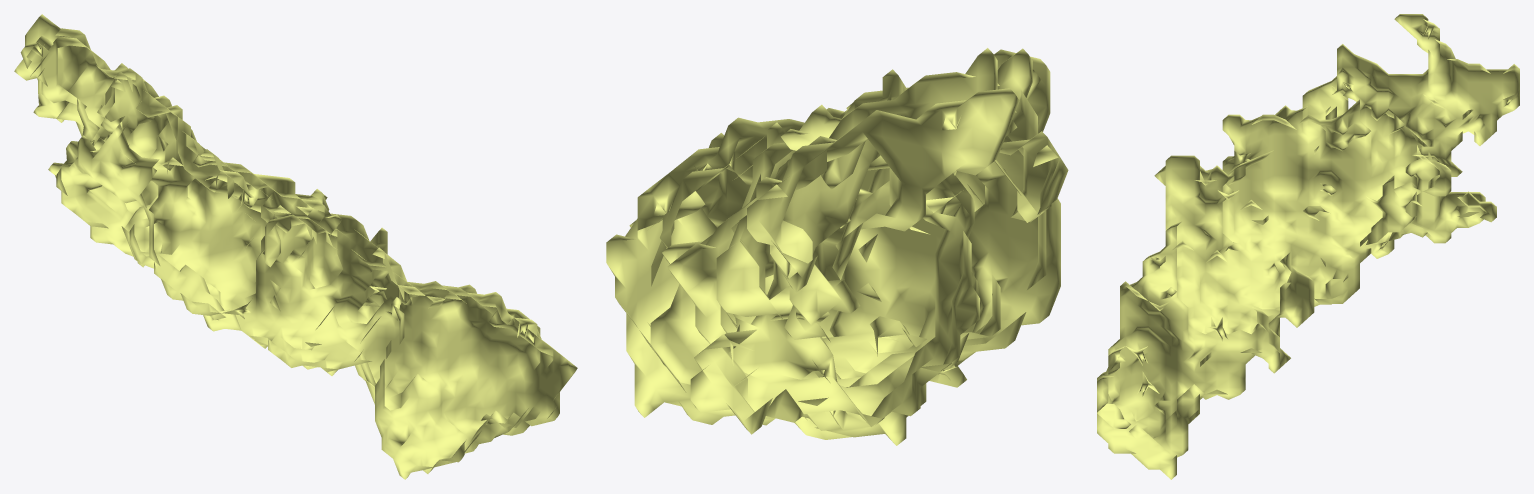
The model's file is osteocyte_66.glb.
3 views of the same model, side by side, from view 1: azimuth 30°, elevation 25°; view 2: azimuth 150°, elevation 25°; view 3: azimuth 270°, elevation 25° (orthographic). The views are drawn at different scales.
Parts seen in each view (by area): view 1: osteocyte_66; view 2: osteocyte_66; view 3: osteocyte_66.
Boxes of the visible parts, bbox=[...] form: osteocyte_66: bbox=[14, 14, 577, 479]; osteocyte_66: bbox=[606, 48, 1068, 445]; osteocyte_66: bbox=[1097, 14, 1519, 479].
Size of the model in its own units: 15.89 by 14.93 by 17.81.
